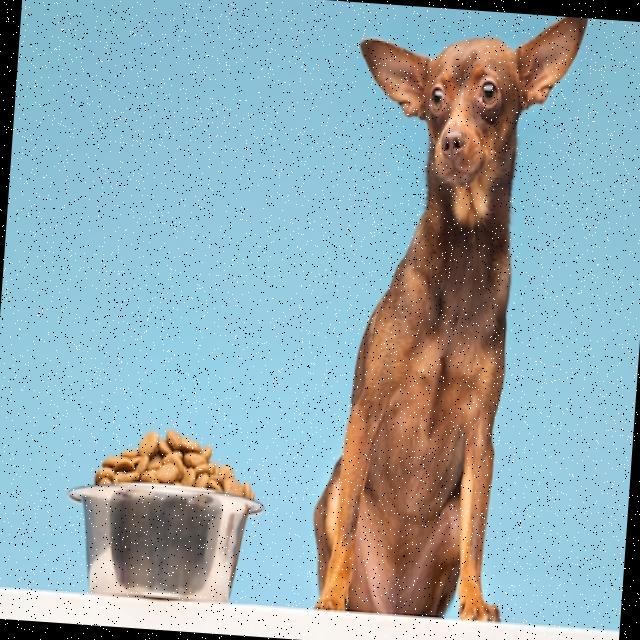Dog: (308, 1, 586, 622)
